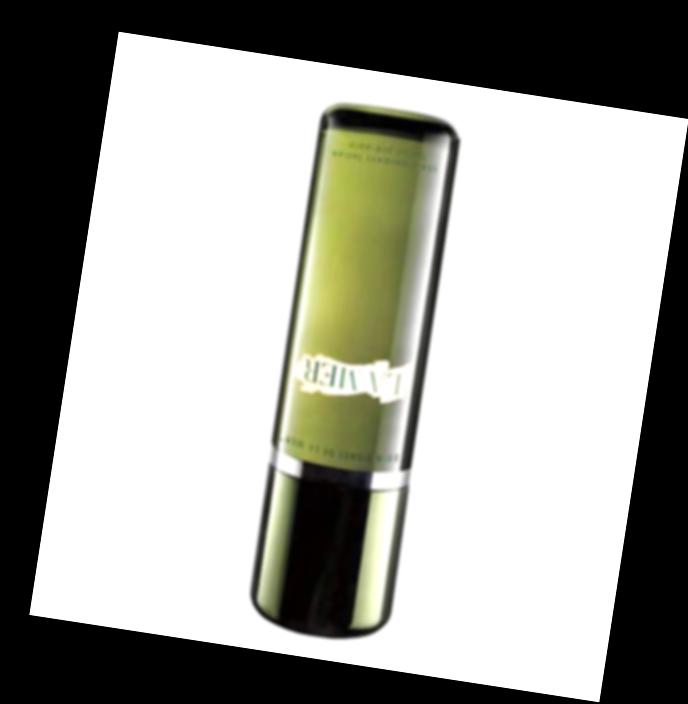cosmetic: (236, 100, 463, 639)
